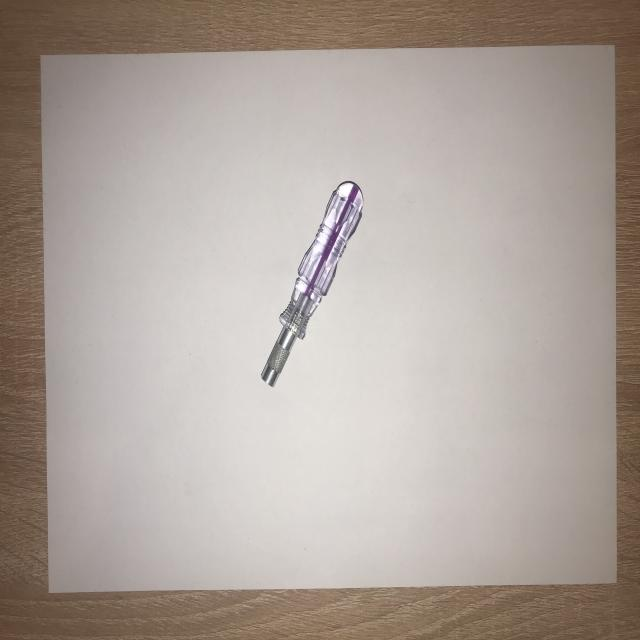screwdriver: (255, 175, 368, 395)
